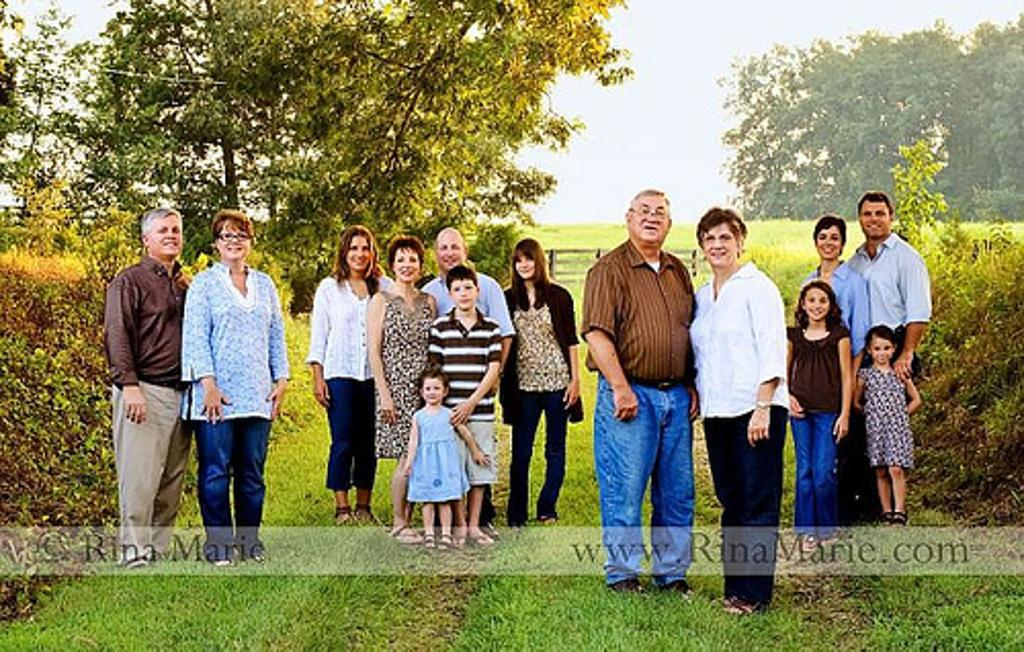face: (632, 201, 669, 241), (702, 230, 736, 266), (149, 220, 183, 254), (221, 224, 249, 259), (860, 205, 889, 238), (346, 237, 371, 271), (395, 251, 420, 282), (438, 241, 464, 270), (453, 281, 478, 310), (817, 230, 841, 259), (806, 292, 831, 319), (871, 340, 894, 363), (423, 379, 444, 403), (516, 254, 536, 279)
